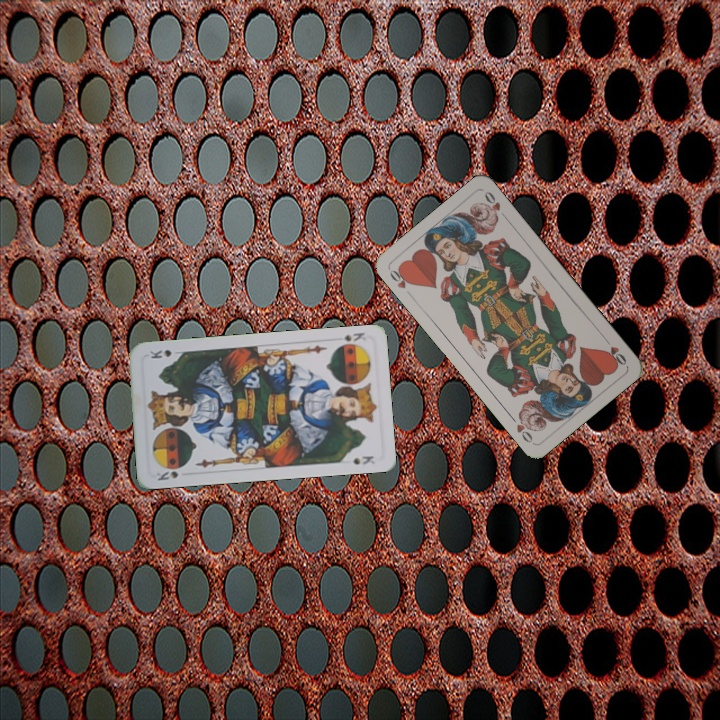HO: (385, 263, 415, 300), (599, 334, 629, 368)
SK: (152, 467, 181, 483), (339, 328, 368, 344)
